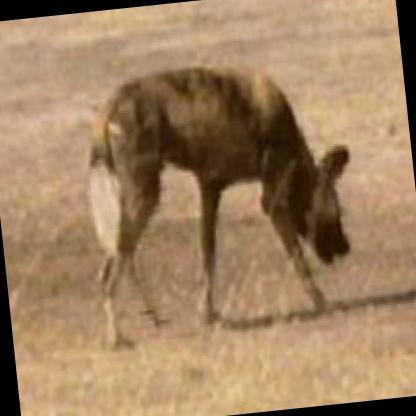African_hunting_dog: (62, 45, 368, 358)
